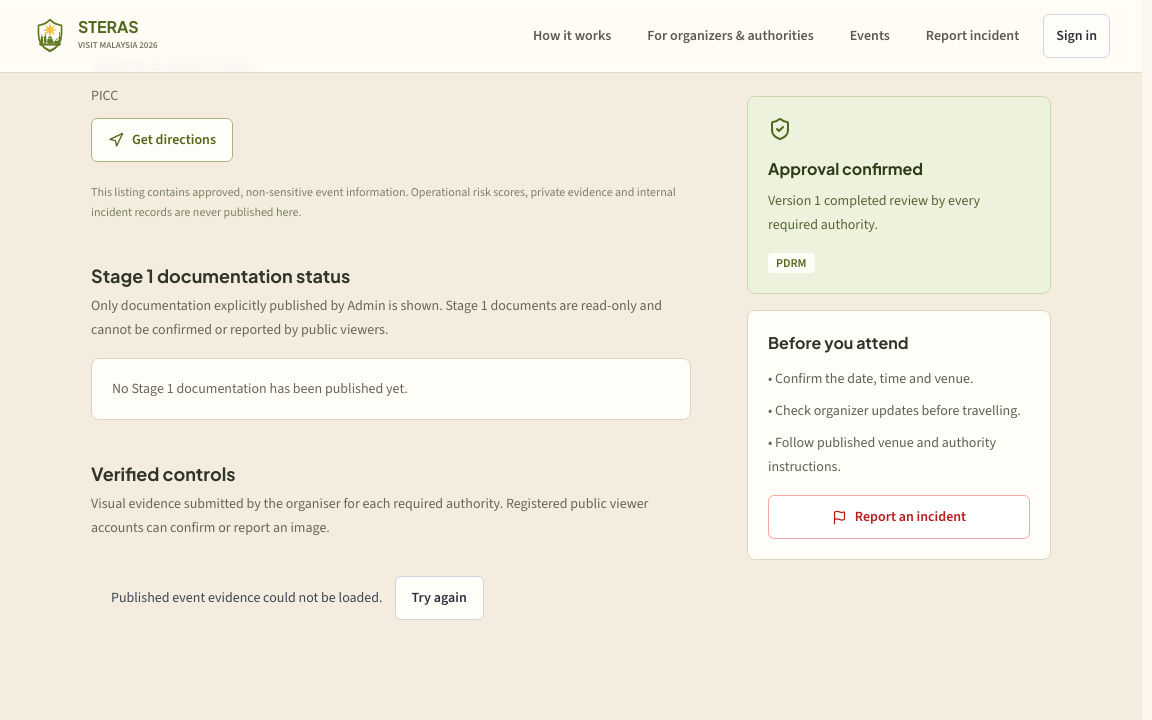
Scenario: PublicEventDetail › shows an evidence read failure instead of claiming nothing was published
(page scrolled)
Expected: the message shows "Published event evidence could not be loaded", [111, 588, 383, 607]
Click the button "Try again" at [439, 598], box [395, 576, 484, 620]
(page scrolled)
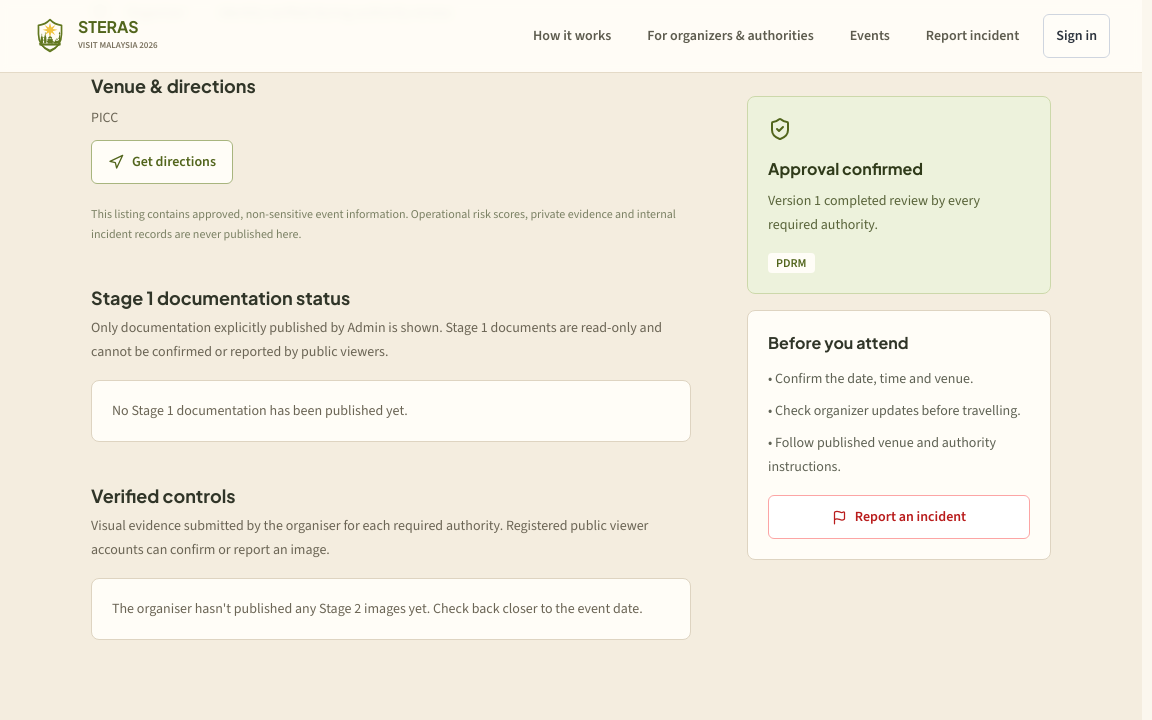
Expected: the text with test id "public-stage2-empty" is shown, [91, 578, 691, 640]
